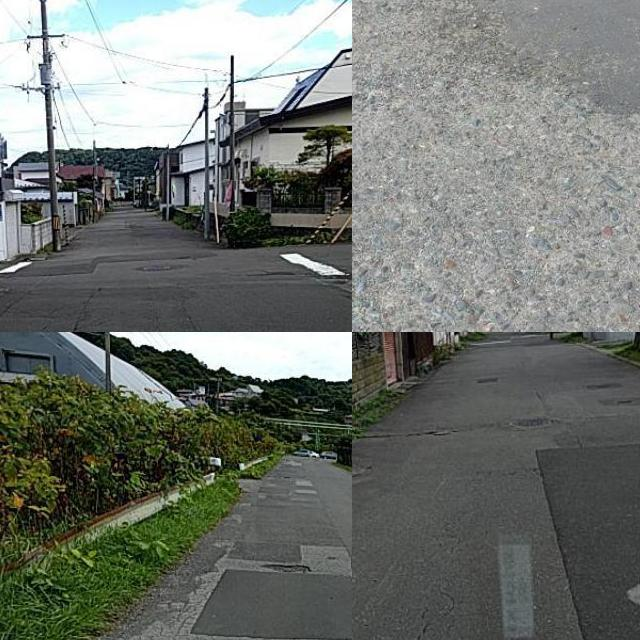Sambungan: (536, 443, 640, 640), (491, 0, 640, 122), (199, 569, 352, 639)
